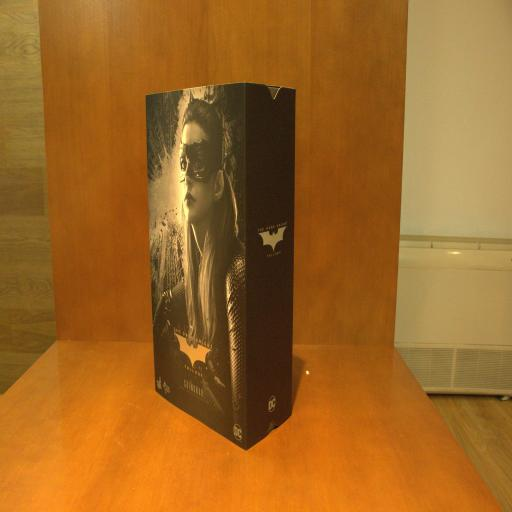catwoman: (146, 82, 296, 452)
